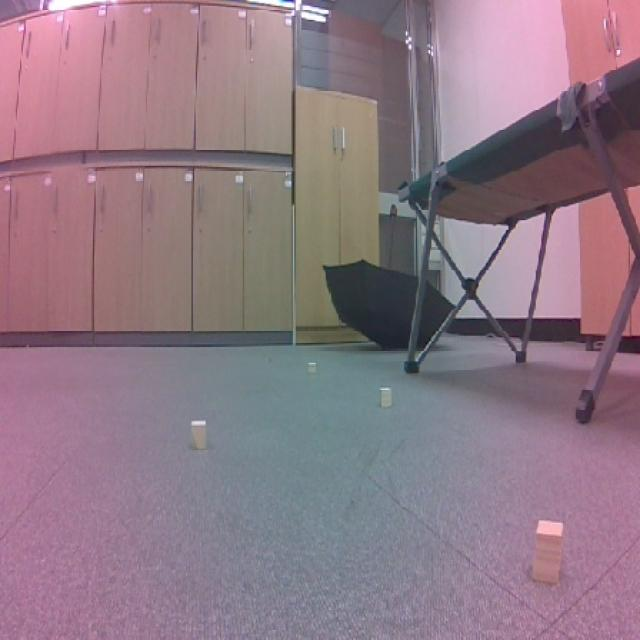obstacle: (523, 514, 580, 594), (183, 414, 214, 456), (370, 383, 406, 417)
